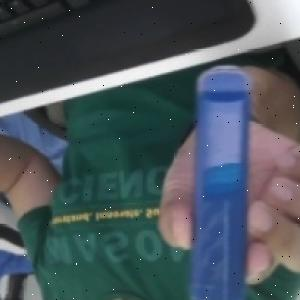Diamond-E-Ciggirate: (192, 63, 255, 300)
